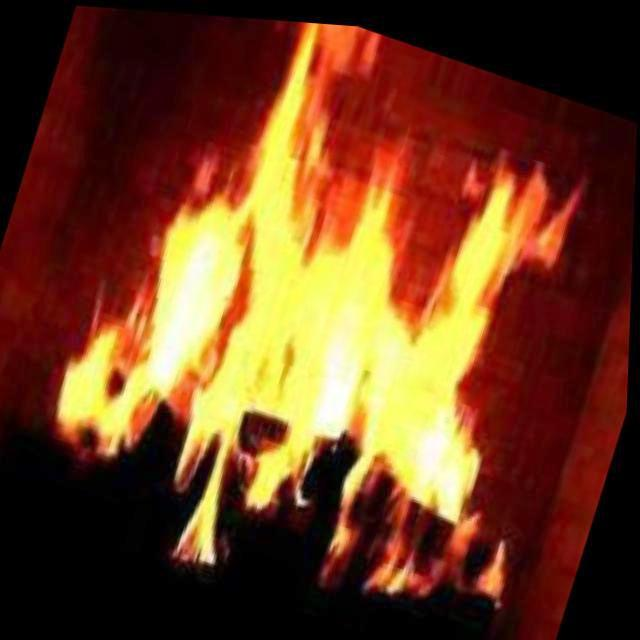fire: (141, 11, 567, 517)
